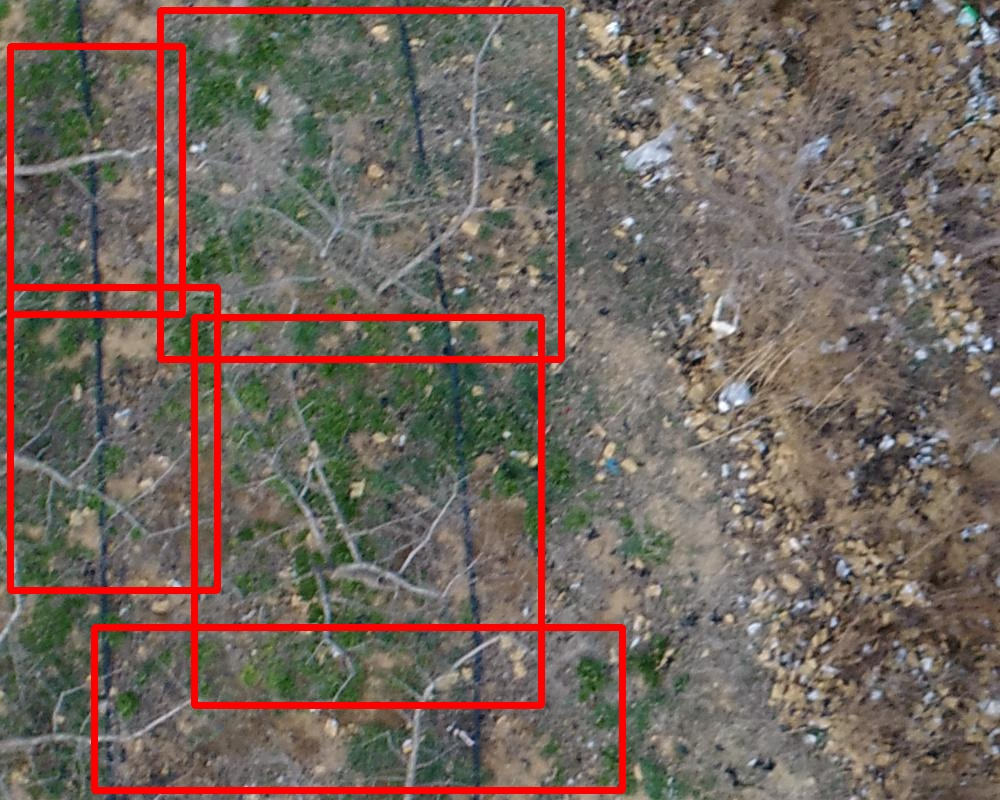apple: (160, 10, 561, 359), (194, 317, 541, 705), (94, 627, 622, 790), (10, 287, 217, 590), (10, 46, 182, 314)
